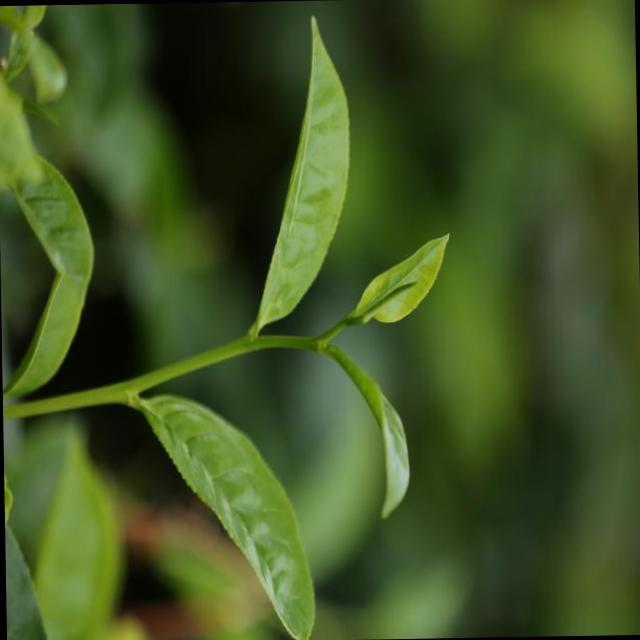Stem: (303, 337, 316, 351)
